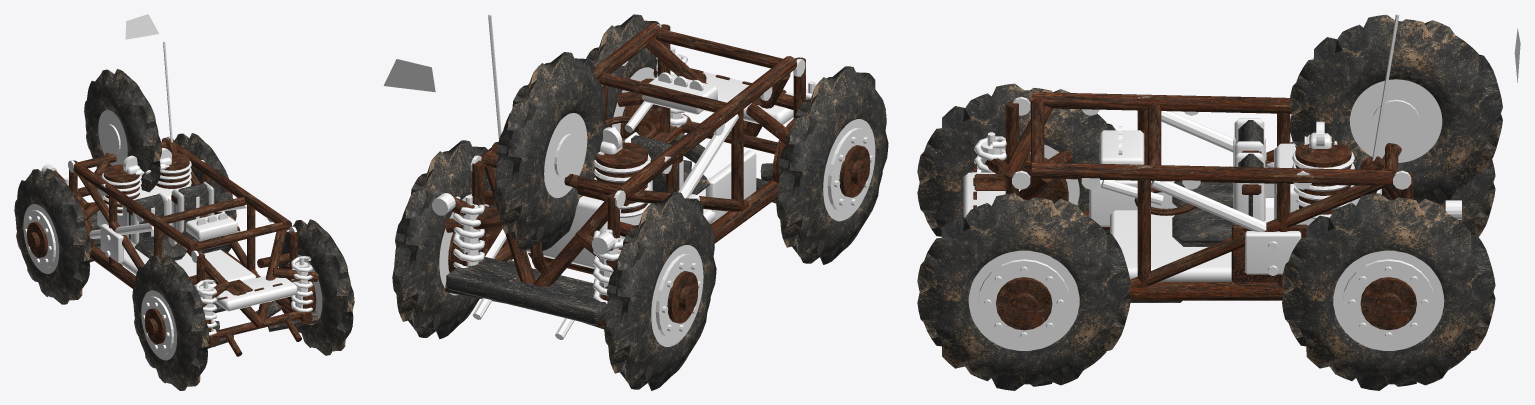
File: scarab.glb
3 views of the same model, side by side, from view 1: azimuth 30°, elevation 25°; view 2: azimuth 150°, elevation 25°; view 3: azimuth 270°, elevation 25° (orthographic). The views are drawn at different scales.
Parts seen in each view (by area): view 1: continuous carcass with swept paddle tread.002, continuous carcass with swept paddle tread, rear mounted spare with integrated paddle tread, continuous carcass with swept paddle tread.001, upper cage rail, skewed nose plate, low floor pan, upper cage rail.001, continuous carcass with swept paddle tread.003, small instrument box, cross welded tube.006, spare wheel dish (+32 smaller); view 2: rear mounted spare with integrated paddle tread, continuous carcass with swept paddle tread.002, continuous carcass with swept paddle tread, continuous carcass with swept paddle tread.003, dust coated rear engine skid cage, upper cage rail, continuous carcass with swept paddle tread.001, spare wheel dish, cross welded tube.006, cross welded tube.005, rear engine crankcase, scarred rim (+37 smaller); view 3: continuous carcass with swept paddle tread.003, continuous carcass with swept paddle tread.001, rear mounted spare with integrated paddle tread, continuous carcass with swept paddle tread, upper cage rail.001, spare wheel dish, upper cage rail, low floor pan, scarred rim.003, scarred rim.001, rear cage brace.001, lower ladder rail.001 (+30 smaller).
Part boxes in pixels (x1=…): continuous carcass with swept paddle tread.002: x1=14, y1=168, x2=91, y2=304; continuous carcass with swept paddle tread: x1=132, y1=254, x2=209, y2=390; rear mounted spare with integrated paddle tread: x1=84, y1=69, x2=161, y2=192; continuous carcass with swept paddle tread.001: x1=278, y1=219, x2=354, y2=355; upper cage rail: x1=73, y1=164, x2=198, y2=252; skewed nose plate: x1=216, y1=276, x2=297, y2=311; low floor pan: x1=120, y1=247, x2=256, y2=287; upper cage rail.001: x1=174, y1=142, x2=291, y2=230; continuous carcass with swept paddle tread.003: x1=174, y1=133, x2=236, y2=252; small instrument box: x1=186, y1=213, x2=237, y2=241; cross welded tube.006: x1=195, y1=222, x2=286, y2=250; spare wheel dish: x1=98, y1=110, x2=127, y2=165; rear mounted spare with integrated paddle tread: x1=494, y1=52, x2=607, y2=250; continuous carcass with swept paddle tread.002: x1=604, y1=192, x2=716, y2=390; continuous carcass with swept paddle tread: x1=776, y1=66, x2=888, y2=264; continuous carcass with swept paddle tread.003: x1=392, y1=140, x2=497, y2=339; dust coated rear engine skid cage: x1=446, y1=257, x2=606, y2=325; upper cage rail: x1=620, y1=56, x2=796, y2=200; continuous carcass with swept paddle tread.001: x1=586, y1=14, x2=660, y2=127; spare wheel dish: x1=544, y1=113, x2=587, y2=197; cross welded tube.006: x1=655, y1=28, x2=783, y2=68; cross welded tube.005: x1=599, y1=72, x2=726, y2=112; rear engine crankcase: x1=526, y1=180, x2=652, y2=268; scarred rim: x1=827, y1=128, x2=874, y2=212; continuous carcass with swept paddle tread.003: x1=1282, y1=193, x2=1495, y2=390; continuous carcass with swept paddle tread.001: x1=917, y1=193, x2=1130, y2=390; rear mounted spare with integrated paddle tread: x1=1289, y1=14, x2=1502, y2=204; continuous carcass with swept paddle tread: x1=917, y1=83, x2=1115, y2=236; upper cage rail.001: x1=1031, y1=162, x2=1391, y2=186; spare wheel dish: x1=1350, y1=79, x2=1442, y2=162; upper cage rail: x1=1031, y1=92, x2=1291, y2=113; low floor pan: x1=1110, y1=207, x2=1273, y2=281; scarred rim.003: x1=1342, y1=259, x2=1434, y2=344; scarred rim.001: x1=978, y1=259, x2=1069, y2=344; rear cage brace.001: x1=1130, y1=170, x2=1394, y2=287; lower ladder rail.001: x1=1129, y1=281, x2=1283, y2=300.
Size of the model in its own units: 2.27 by 2.61 by 4.07.
9 materials, 4 textured.
